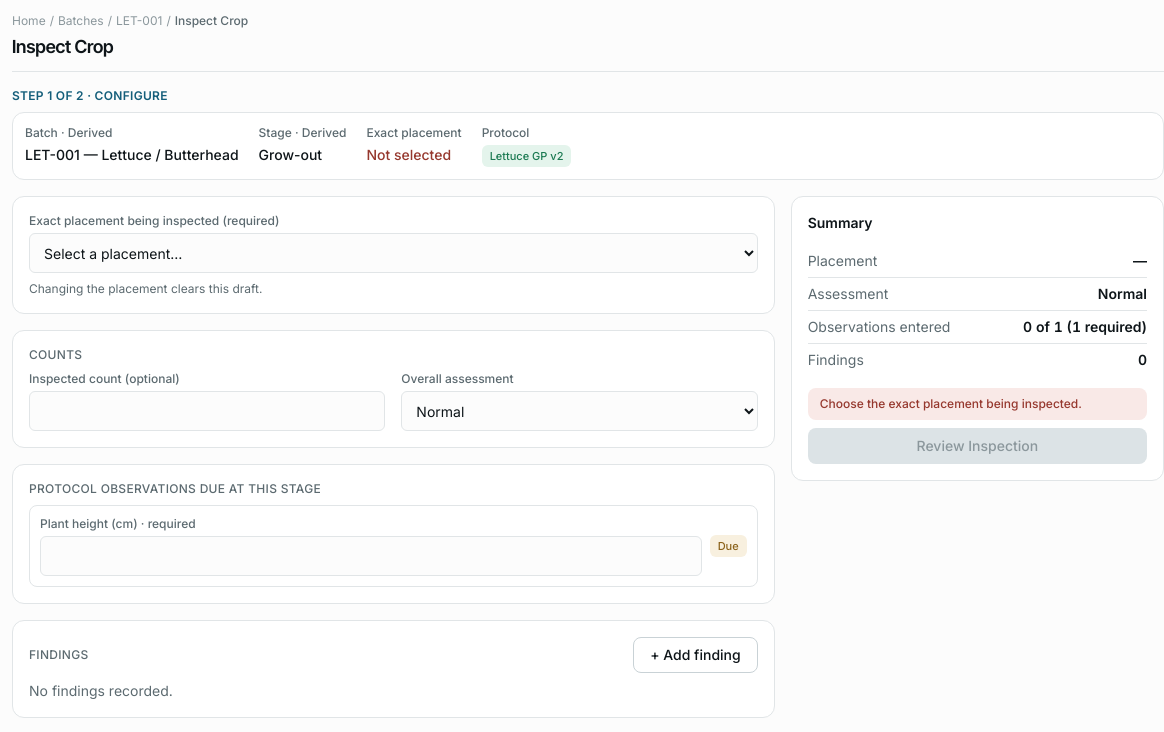
Test: InspectCropPage (UX-OPS-001C/R1) › opened without an assignment, requires choosing an exact placement; changing it clears the draft
Check: the message shows "Choose the exact placement", box [820,396,1082,411]
Check: the button "Review Inspection" is disabled, box [808,428,1147,464]
Select "PP-001 — LEAFY-01 / Z01 / S01 / TA01" in the dropdown labelled "Exact placement being inspected (required)" at (393, 253), box [29,233,758,273]
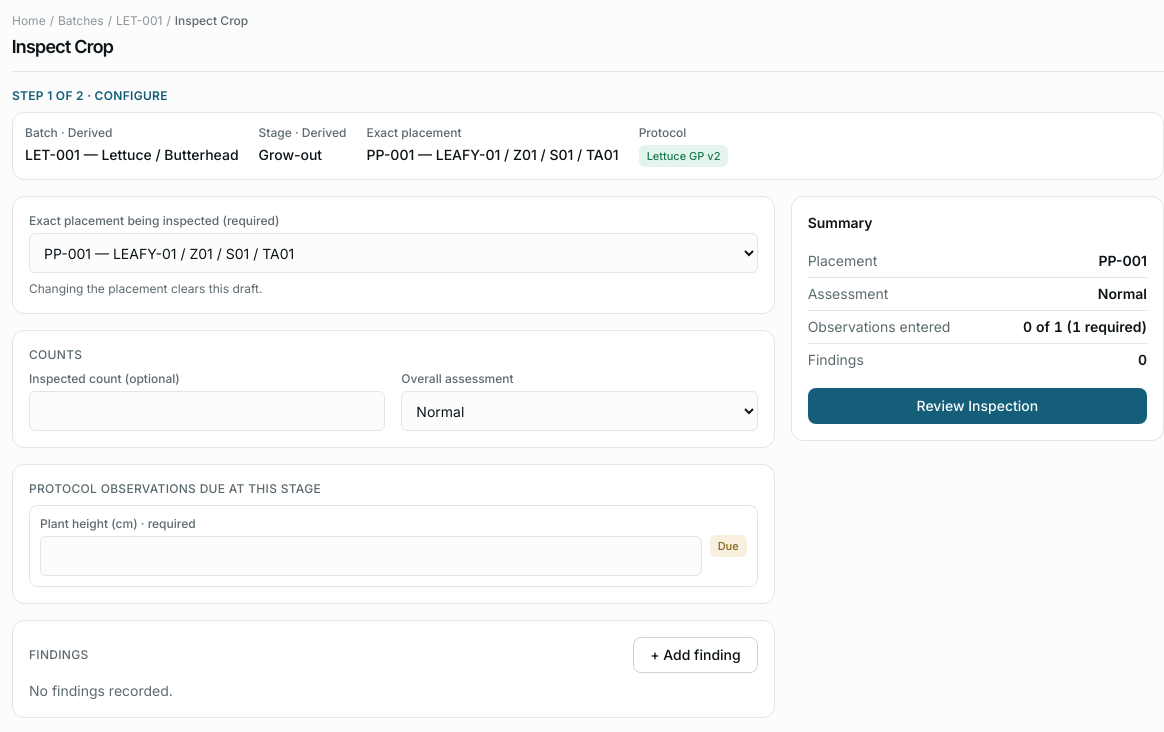
Check: the text with test id "inspection-target" shows "PP-001", box [366,146,414,162]
Type "20" into the field labelled "Inspected count (optional)" at (207, 411), box [29,391,385,431]
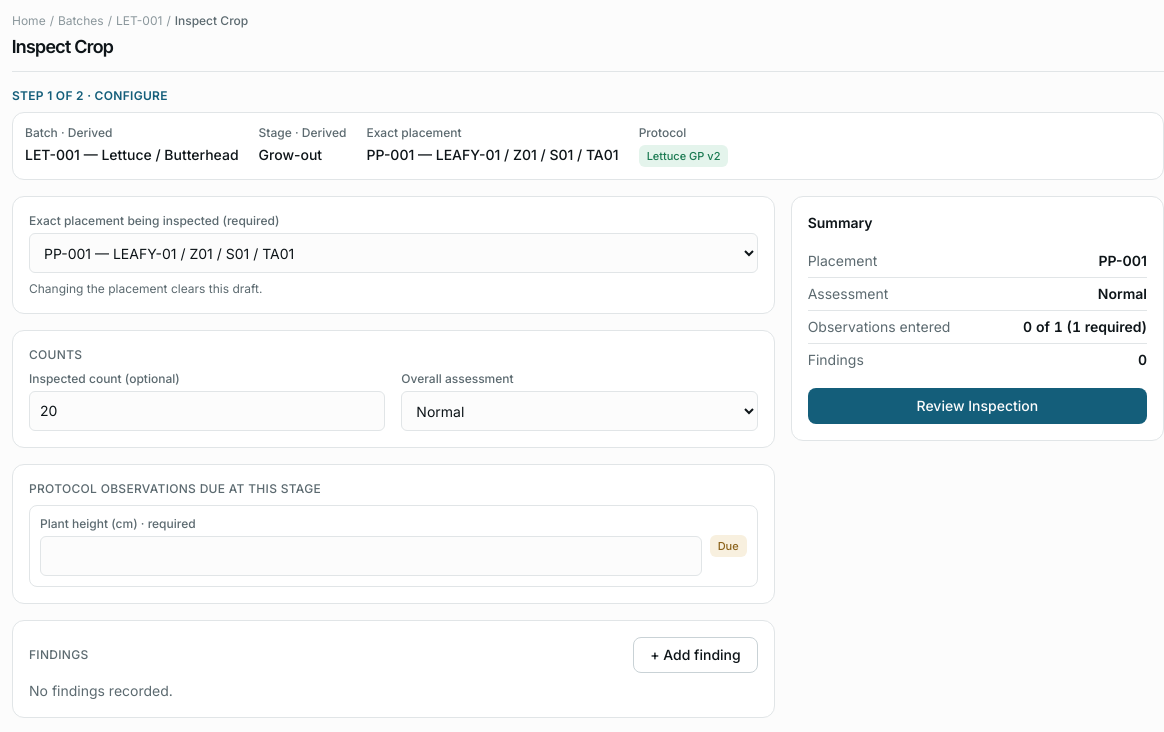
Select "PP-002 — LEAFY-01 / Z01 / S02 / TA07" in the dropdown labelled "Exact placement being inspected (required)" at (393, 253), box [29,233,758,273]
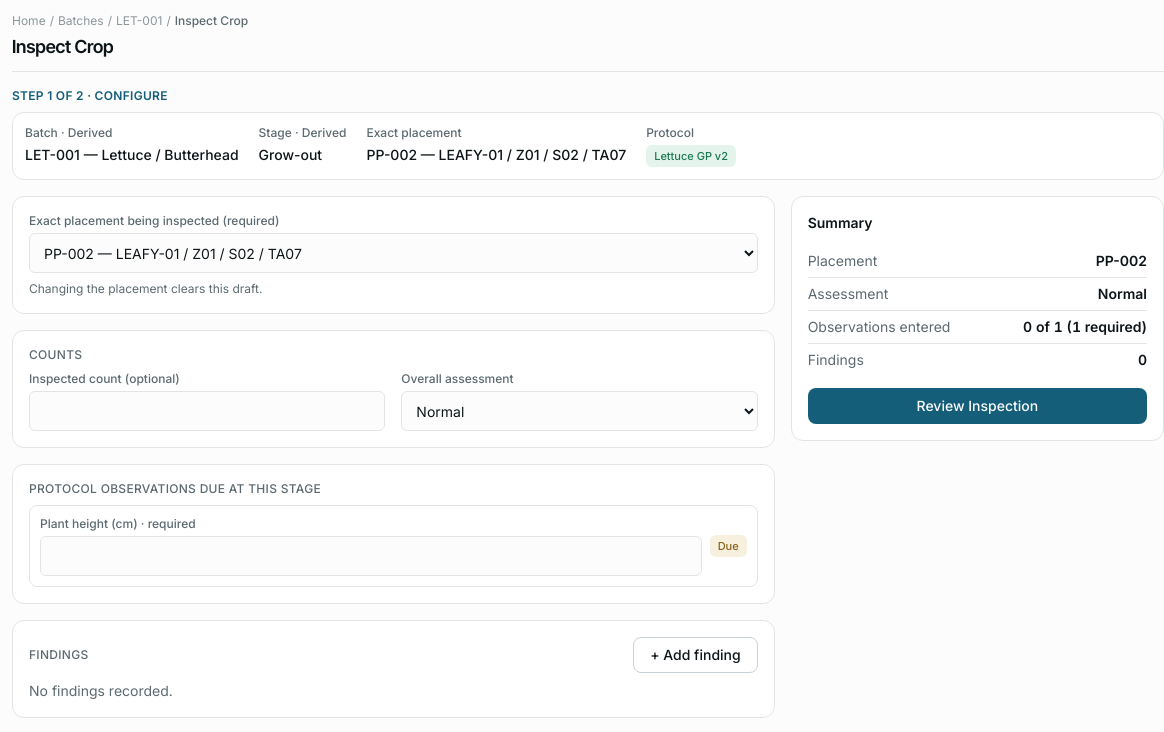
Check: the text with test id "inspection-target" reads "PP-002 — LEAFY-01 / Z01 / S02 / TA07", box [366,144,626,164]
Check: the field labelled "Inspected count (optional)" is empty, box [29,391,385,431]
